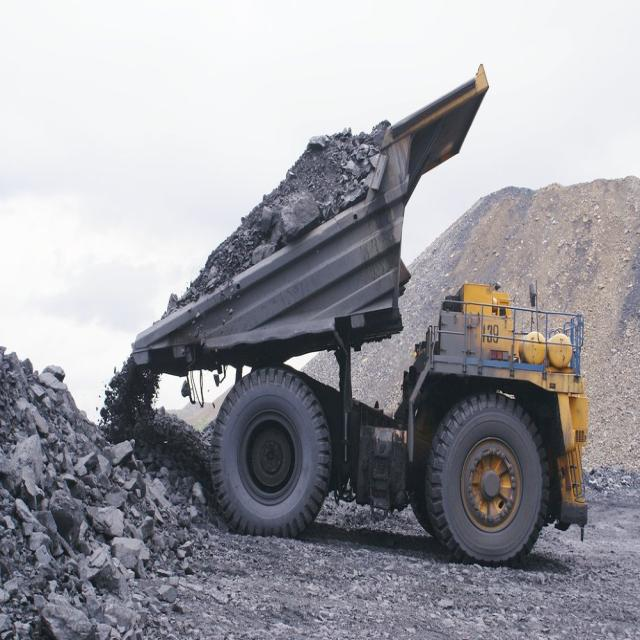dump_truck: (105, 53, 612, 571)
